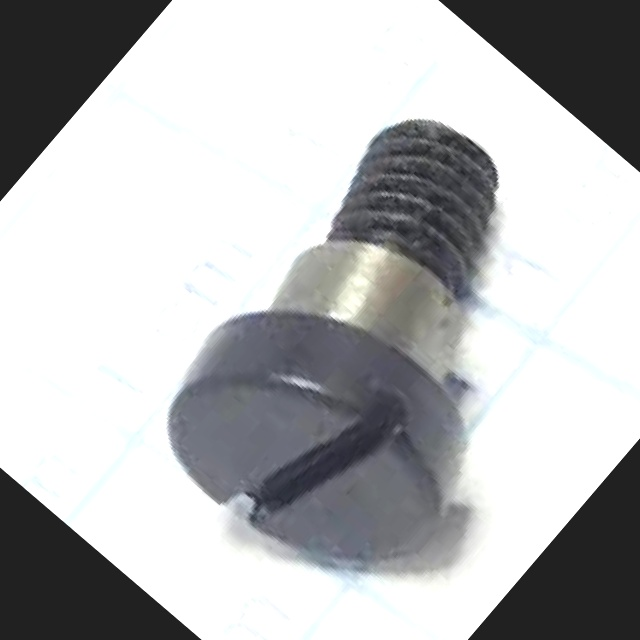duz: (126, 249, 512, 628)
